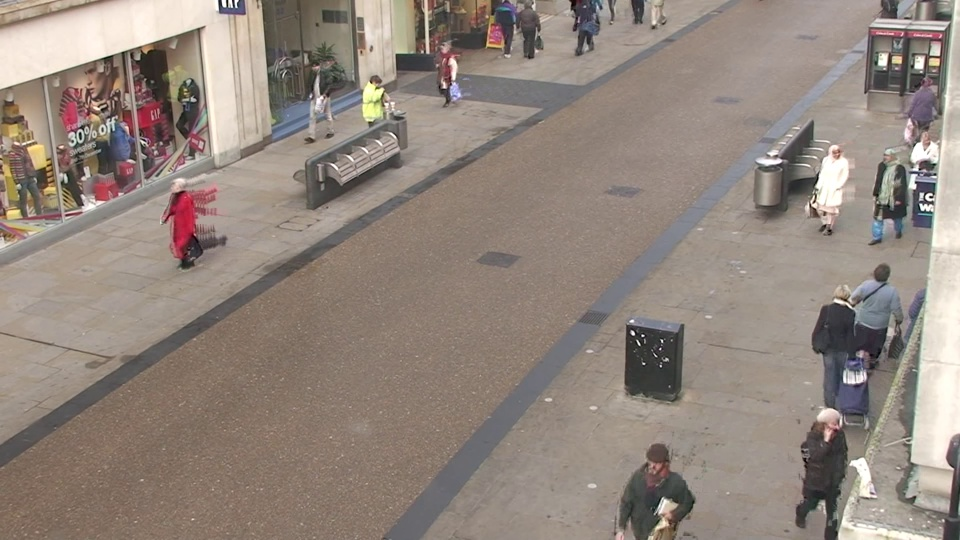pedestrian: (796, 398, 859, 540), (812, 277, 865, 416), (850, 258, 904, 393), (625, 437, 685, 540), (162, 173, 207, 281), (898, 128, 945, 231), (864, 145, 909, 251), (813, 140, 853, 243), (899, 74, 941, 164), (362, 72, 392, 154), (306, 56, 335, 134), (433, 40, 460, 114)
